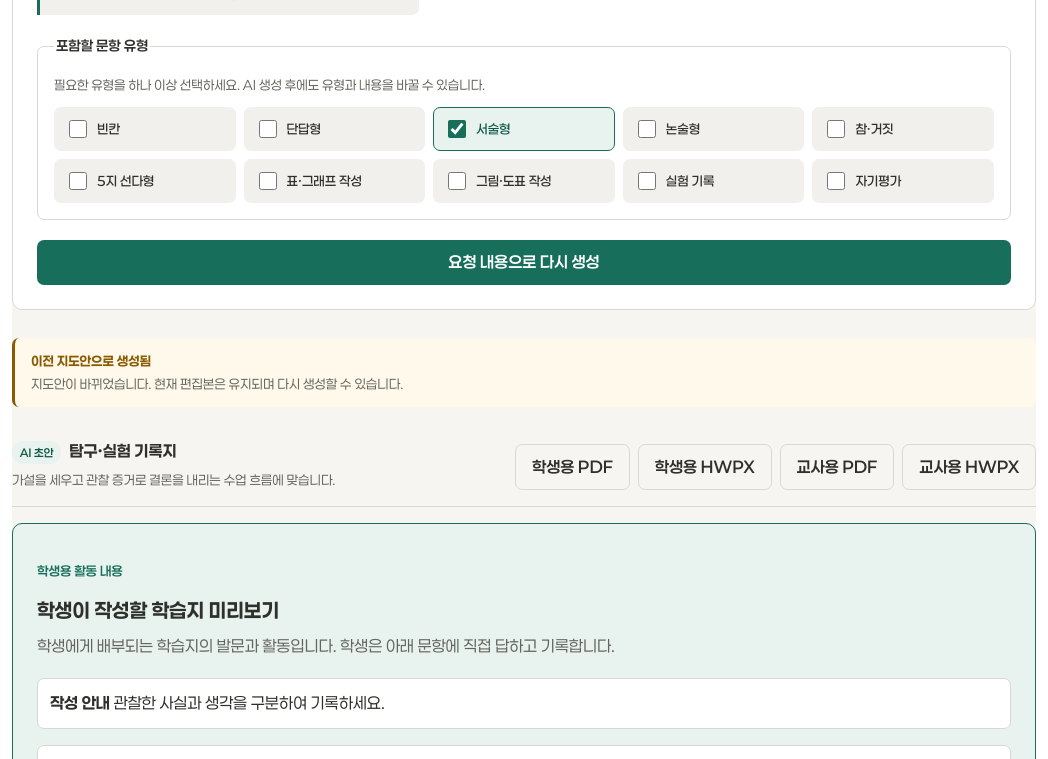
Test case: disables worksheet exports while one export is running
(page scrolled)
Click the button "학생용 HWPX" at {"x": 705, "y": 467}, box [638, 444, 772, 490]
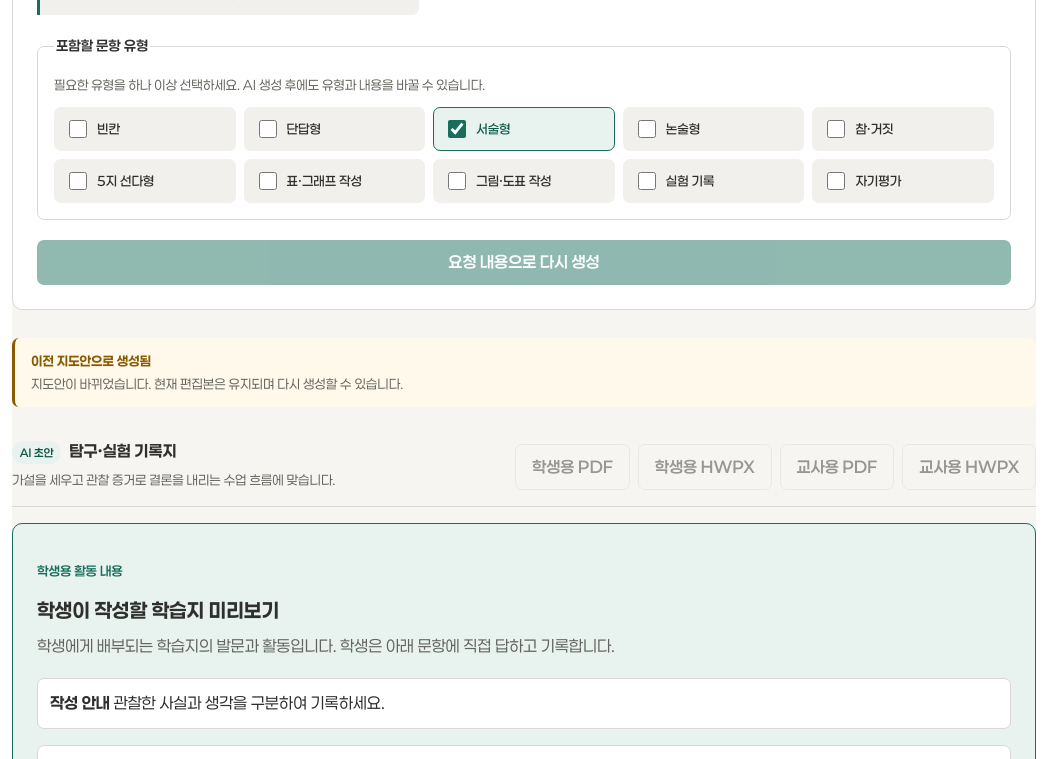
Now the button "학생용 HWPX" is disabled
Click the button "학생용 HWPX" at {"x": 705, "y": 467}, box [638, 444, 772, 490]
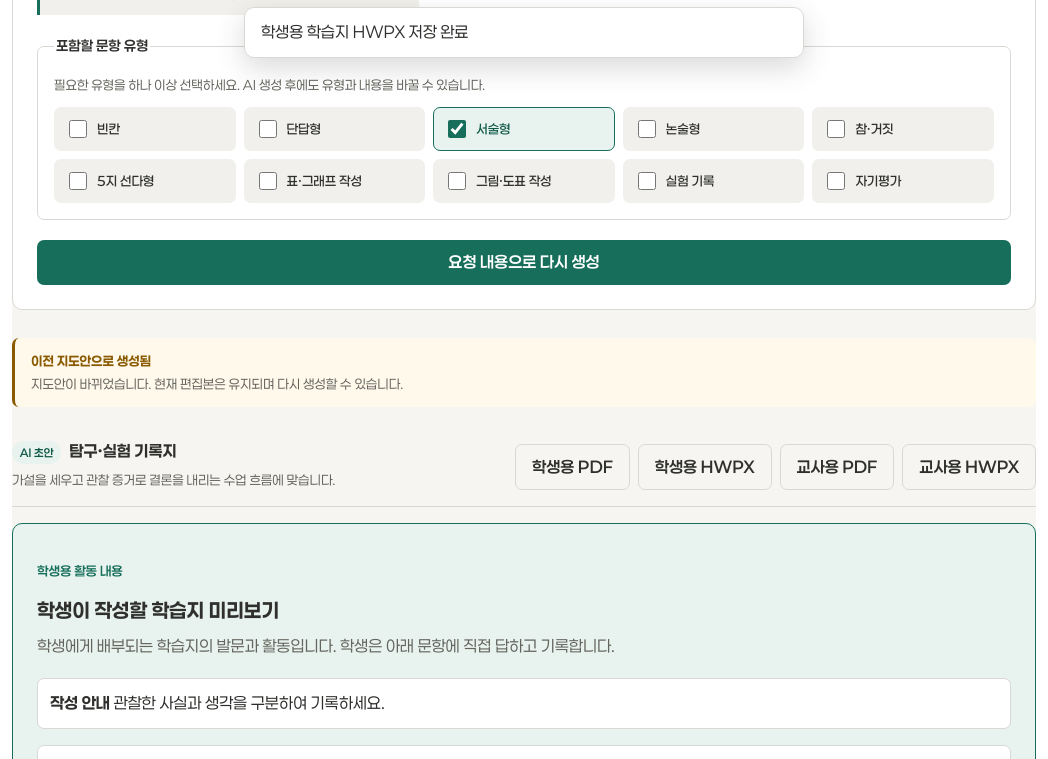
Now the button "학생용 HWPX" is enabled, box [638, 444, 772, 490]
